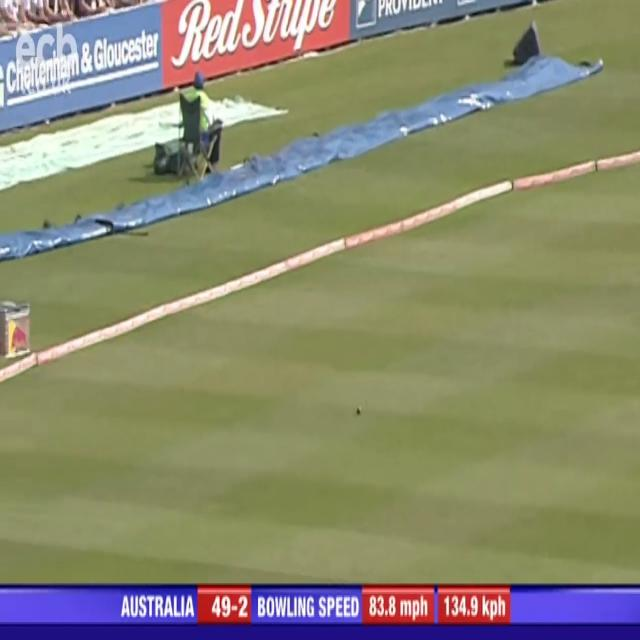ball: (354, 405, 368, 422)
